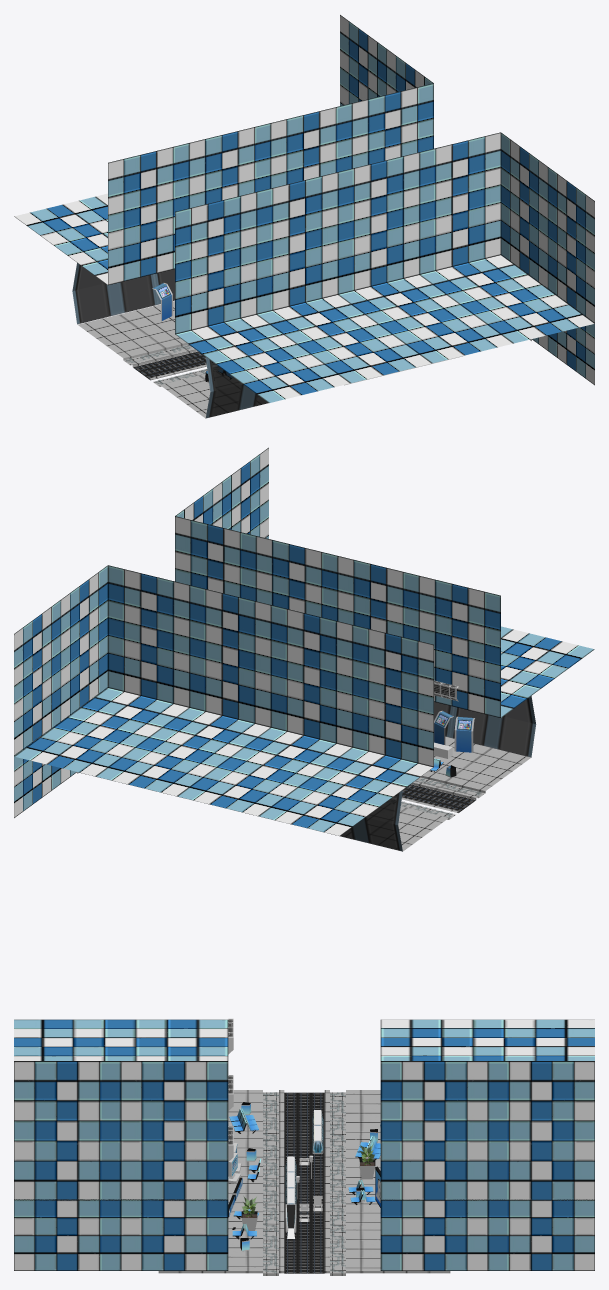
Rendered from subwaysurfmap9test.glb.
3 views of the same model, one above another, from view 1: azimuth 30°, elevation 25°; view 2: azimuth 150°, elevation 25°; view 3: azimuth 270°, elevation 25° (orthographic). The views are drawn at different scales.
Parts seen in each view (by area): view 1: tiledwall.005, tiledwall, tiledwall.003, tiledwall.006, tiledwall.007, tiledwall.002, tiledwall.001, tiledwall.009, tiledwall.012, tiledwall.013, tile.024, tiledwall.008 (+5 smaller); view 2: tiledwall.007, tiledwall.012, tiledwall.009, tiledwall.013, tiledwall.006, tiledwall.014, tiledwall.008, tiledwall.005, tiledwall, tiledwall.003, tiledwall.002, tile.012 (+6 smaller); view 3: tiledwall.014, tiledwall.001, tiledwall.008, tiledwall.002, tiledwall.006, tiledwall.007, tiledwall.004, tiledwall.010, tiledwall.015, tiledwall.011, tile.015, tile.003 (+14 smaller).
Part boxes in pixels (bbox=[...]): tiledwall.005: bbox=[256, 172, 431, 383]; tiledwall: bbox=[419, 132, 594, 343]; tiledwall.003: bbox=[338, 152, 512, 363]; tiledwall.006: bbox=[175, 192, 349, 402]; tiledwall.007: bbox=[14, 143, 189, 285]; tiledwall.002: bbox=[548, 167, 594, 323]; tiledwall.001: bbox=[501, 132, 547, 288]; tiledwall.009: bbox=[96, 123, 270, 207]; tiledwall.012: bbox=[271, 103, 352, 188]; tiledwall.013: bbox=[352, 83, 433, 168]; tile.024: bbox=[78, 305, 188, 360]; tiledwall.008: bbox=[340, 15, 386, 105]; tiledwall.007: bbox=[258, 625, 433, 835]; tiledwall.012: bbox=[96, 585, 270, 796]; tiledwall.009: bbox=[177, 605, 352, 815]; tiledwall.013: bbox=[14, 565, 189, 776]; tiledwall.006: bbox=[419, 576, 594, 717]; tiledwall.014: bbox=[61, 565, 107, 721]; tiledwall.008: bbox=[14, 600, 60, 755]; tiledwall.005: bbox=[338, 556, 512, 640]; tiledwall: bbox=[175, 516, 256, 601]; tiledwall.003: bbox=[256, 536, 337, 621]; tiledwall.002: bbox=[222, 447, 268, 538]; tile.012: bbox=[420, 738, 530, 793]; tiledwall.014: bbox=[380, 1061, 487, 1200]; tiledwall.001: bbox=[121, 1061, 228, 1200]; tiledwall.008: bbox=[488, 1061, 594, 1200]; tiledwall.002: bbox=[14, 1061, 120, 1200]; tiledwall.006: bbox=[14, 1019, 228, 1060]; tiledwall.007: bbox=[380, 1019, 594, 1060]; tiledwall.004: bbox=[121, 1199, 228, 1270]; tiledwall.010: bbox=[14, 1199, 120, 1270]; tiledwall.015: bbox=[380, 1199, 487, 1270]; tiledwall.011: bbox=[488, 1199, 594, 1270]; tile.015: bbox=[346, 1225, 450, 1273]; tile.003: bbox=[158, 1225, 262, 1273].
Size of what is drawn, in the model's own units: 161 by 89.52 by 217.
Materials: 4 (3 with a texture image).
